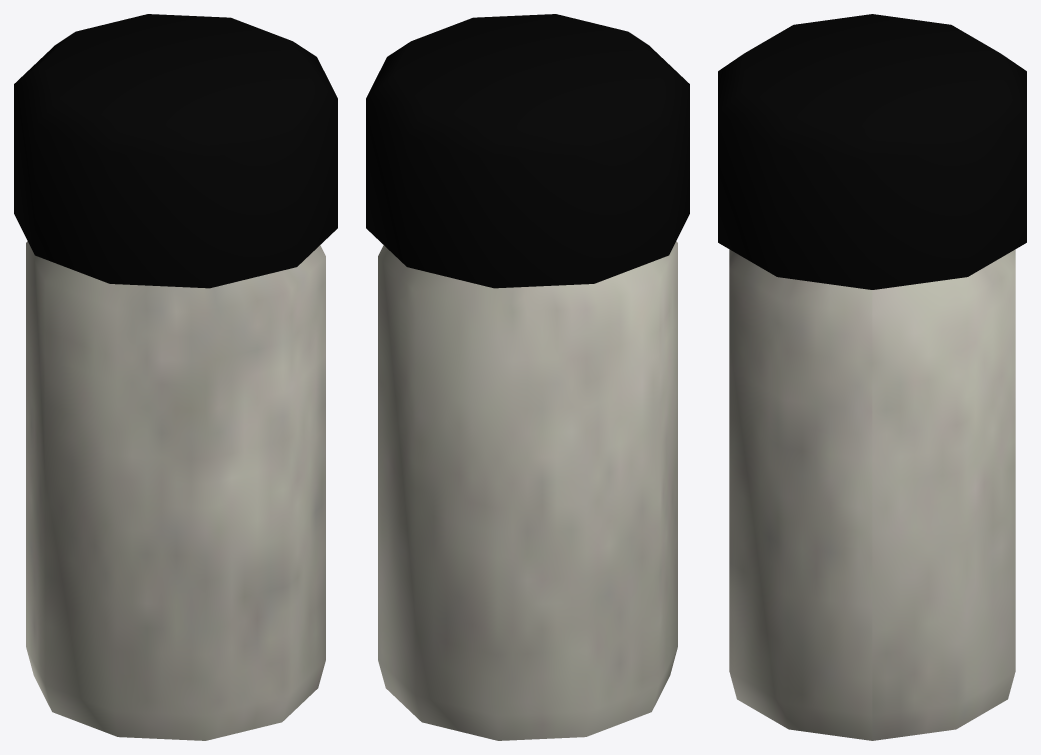
Rendered from pill_bottle.fbx.
3 views of the same model, side by side, from view 1: azimuth 30°, elevation 25°; view 2: azimuth 150°, elevation 25°; view 3: azimuth 270°, elevation 25° (orthographic).
Visible parts, largest first — view 1: pill_bottle, pill_bottle_cap; view 2: pill_bottle, pill_bottle_cap; view 3: pill_bottle, pill_bottle_cap.
Part boxes in pixels (x1,y1,x2,y2): pill_bottle: (26,241,325,740); pill_bottle_cap: (14,14,337,288); pill_bottle: (378,241,677,740); pill_bottle_cap: (366,14,689,288); pill_bottle: (729,249,1015,740); pill_bottle_cap: (718,14,1026,289).
Bounding box in the file's own units: 0.041 × 0.085 × 0.039.
